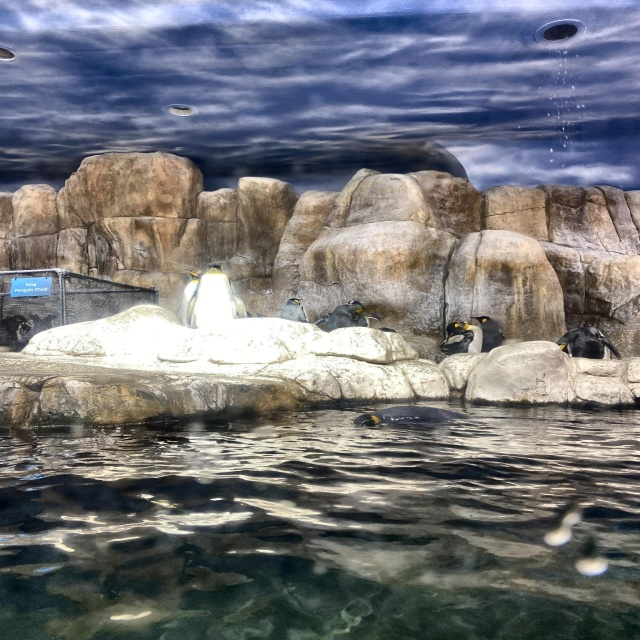penguin: (188, 264, 247, 331), (353, 405, 472, 427), (558, 325, 621, 363), (469, 314, 504, 354), (180, 267, 203, 327), (443, 322, 482, 354), (0, 314, 32, 351), (315, 303, 352, 334), (348, 297, 380, 328), (279, 298, 311, 324), (43, 313, 58, 332), (31, 310, 44, 331)
